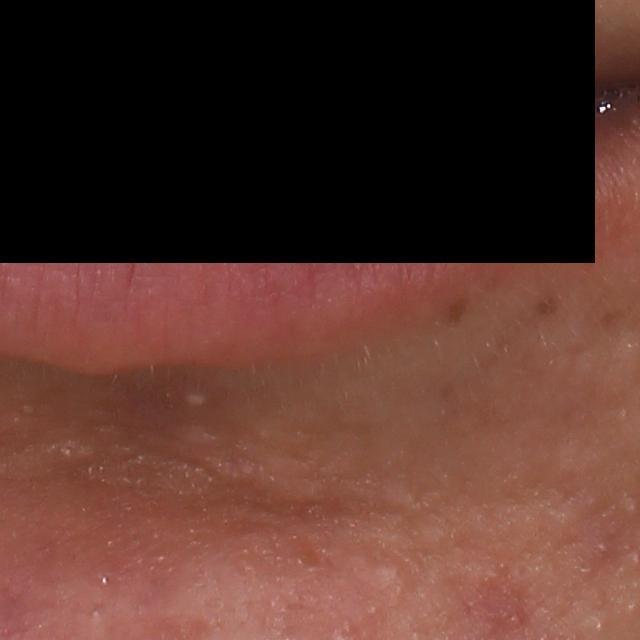comedo: (181, 387, 223, 412)
hypertrophic_scar: (50, 436, 103, 466)
